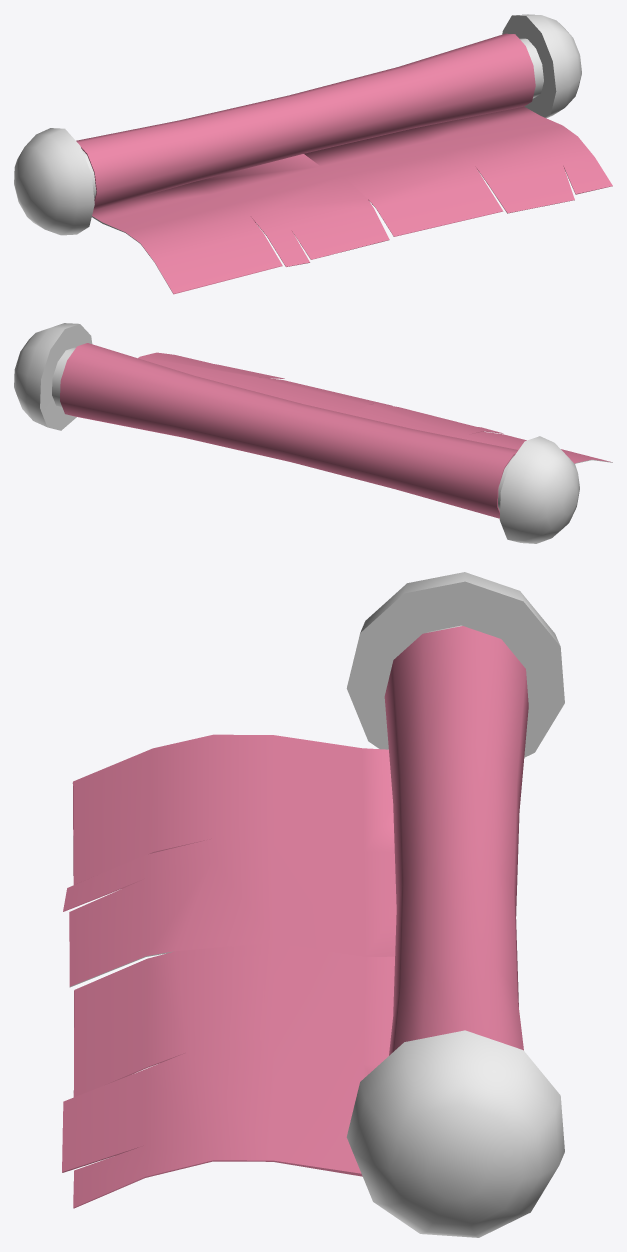
Rendered from FBX_Scroll_Open_A.fbx.
The picture shows the model from 3 angles, top to bottom: view 1: azimuth 30°, elevation 25°; view 2: azimuth 150°, elevation 25°; view 3: azimuth 270°, elevation 25°; orthographic projection. The views are drawn at different scales.
Visible parts, largest first — view 1: FBX_Scroll_Open_A; view 2: FBX_Scroll_Open_A; view 3: FBX_Scroll_Open_A.
Boxes of the visible parts, x1,y1,x2,y2 form: FBX_Scroll_Open_A: (14,14,612,294); FBX_Scroll_Open_A: (14,323,612,543); FBX_Scroll_Open_A: (62,572,564,1237).
Bounding box in the file's own units: 52.79 × 9.13 × 21.03.
